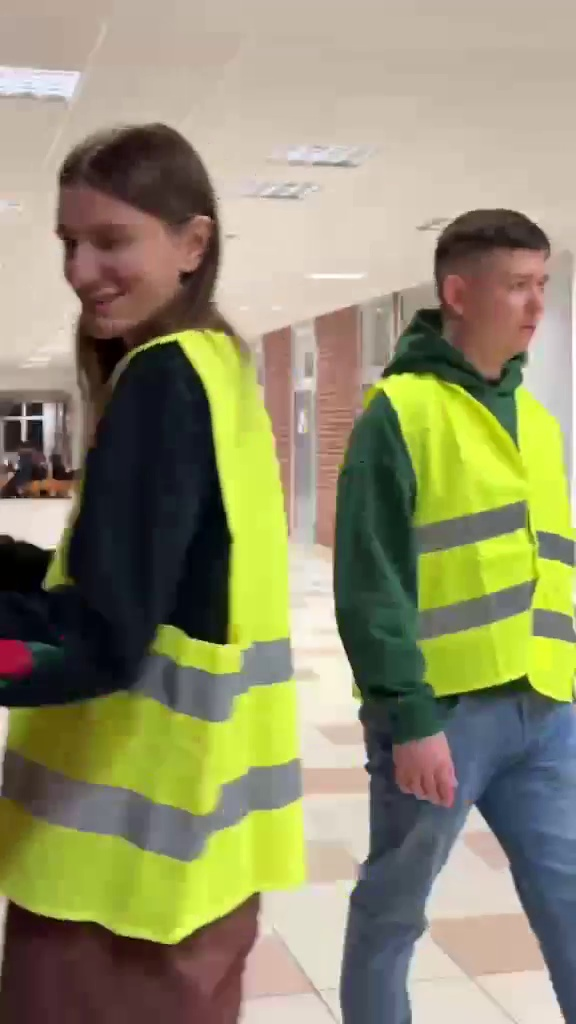vest: (2, 117, 311, 985), (337, 187, 573, 976)
